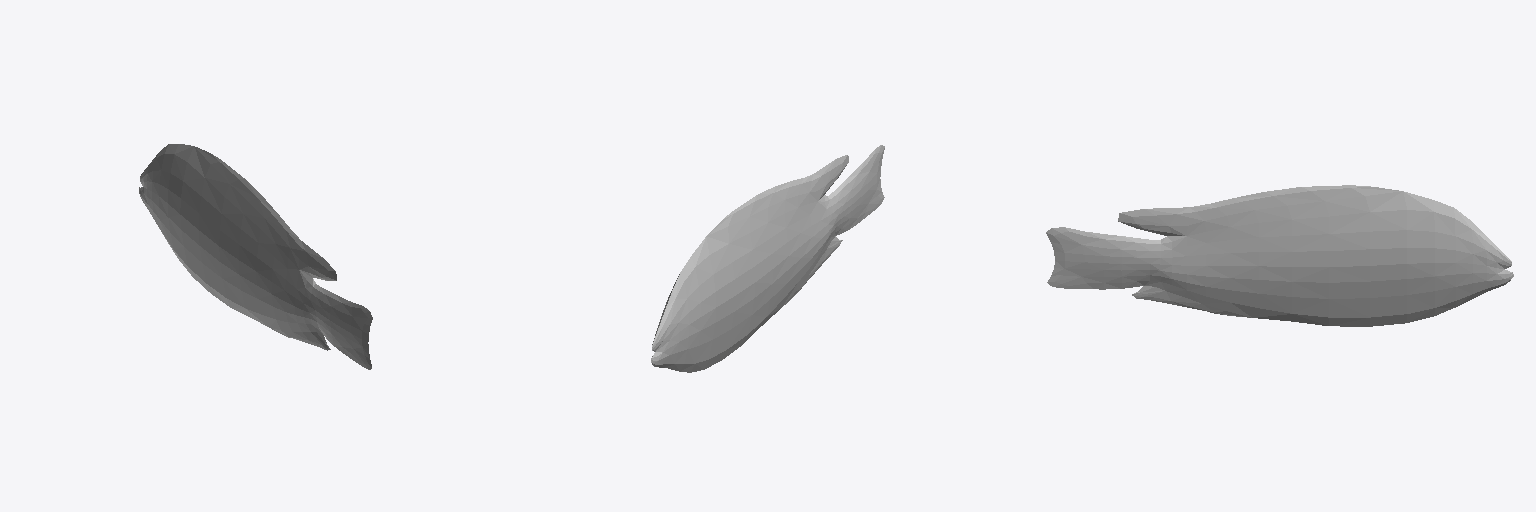
File: yellowfish2anim-5800.obj
3 renders of one model, left to right at view 1: azimuth 30°, elevation 25°; view 2: azimuth 150°, elevation 25°; view 3: azimuth 270°, elevation 25°, orthographic.
Visible parts, largest first — view 1: Plane; view 2: Plane; view 3: Plane.
Part boxes in pixels (bbox=[...]): Plane: bbox=[139, 144, 372, 369]; Plane: bbox=[651, 145, 884, 372]; Plane: bbox=[1046, 185, 1513, 326].
Bounding box in the file's own units: 0.5178 × 2.83 × 8.48.